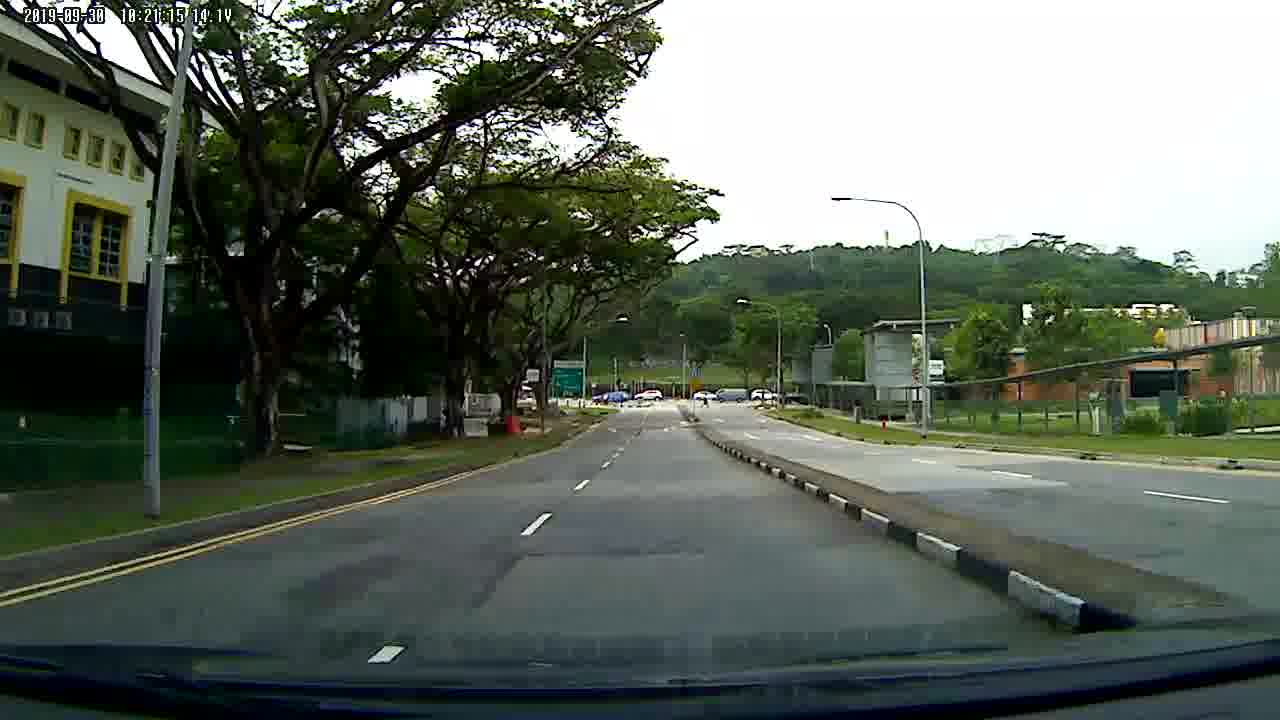car: (750, 386, 781, 401), (634, 386, 663, 401), (690, 388, 717, 401)
